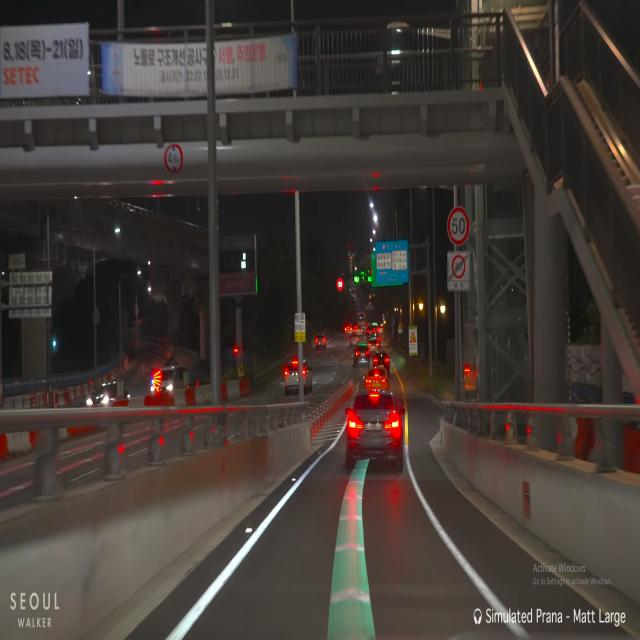headlights: (80, 389, 116, 408)
